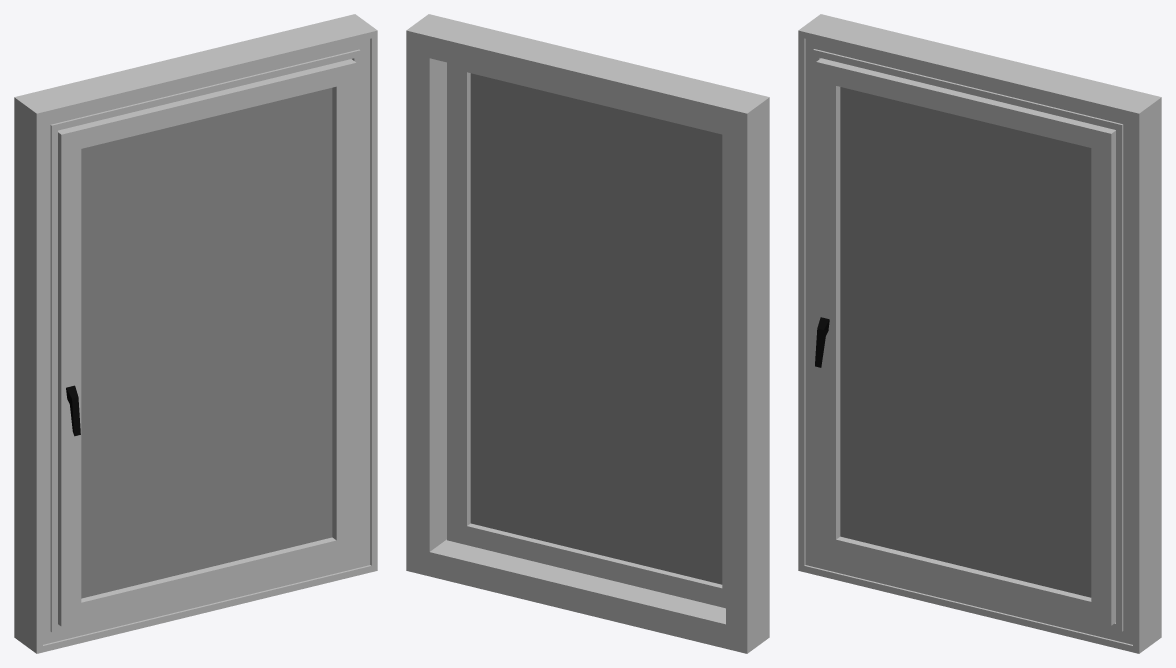
Rendered from Window 3.FBX.
3 renders of one model, left to right at view 1: azimuth 30°, elevation 25°; view 2: azimuth 150°, elevation 25°; view 3: azimuth 330°, elevation 25°, orthographic.
Parts seen in each view (by area): view 1: window, window frame; view 2: window, window frame; view 3: window, window frame.
Boxes of the visible parts, box(x1,y1,x2,y2) form: window: box(58, 59, 356, 626); window frame: box(14, 14, 377, 653); window: box(447, 62, 725, 608); window frame: box(406, 14, 769, 653); window: box(815, 58, 1115, 625); window frame: box(798, 14, 1161, 653).
Size of the model in its own units: 99.73 by 151 by 16.76.
